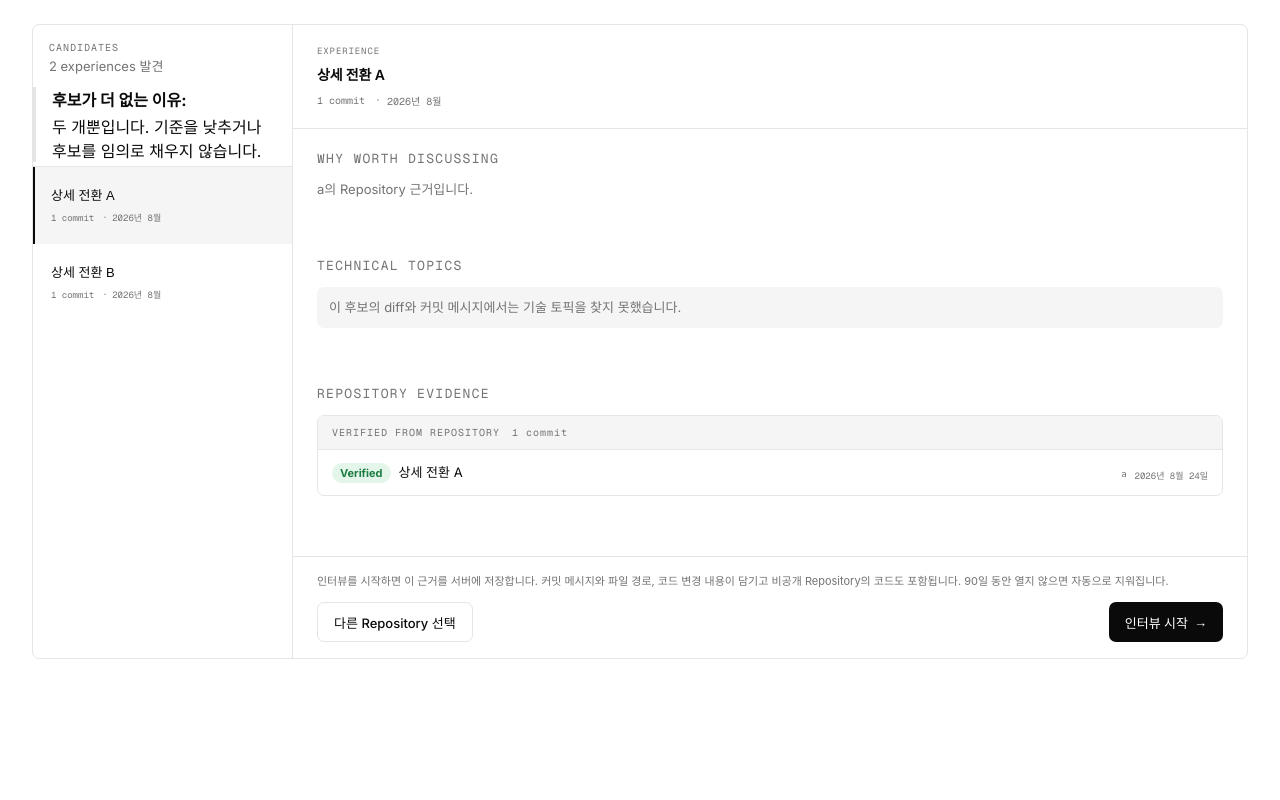
it: ExperienceCandidateList › 목록에서 다른 후보를 선택하면 상세가 함께 바뀐다
Expected: the heading "상세 전환 A" is shown, [317,66,385,83]
Click the button "상세 전환 B 1 commit 2026년 8월" at (162, 283), box [33,244,292,321]
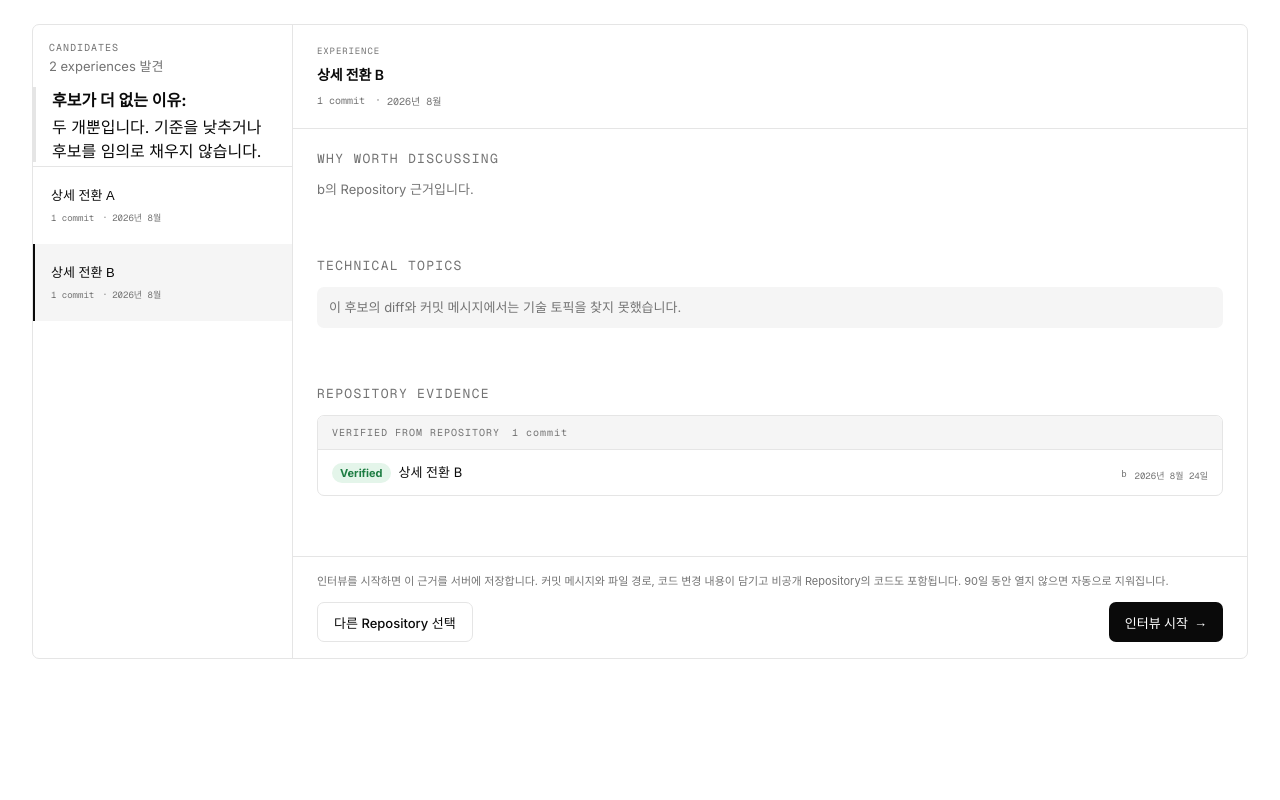
Now the heading "상세 전환 B" is shown, box [317,66,384,83]
